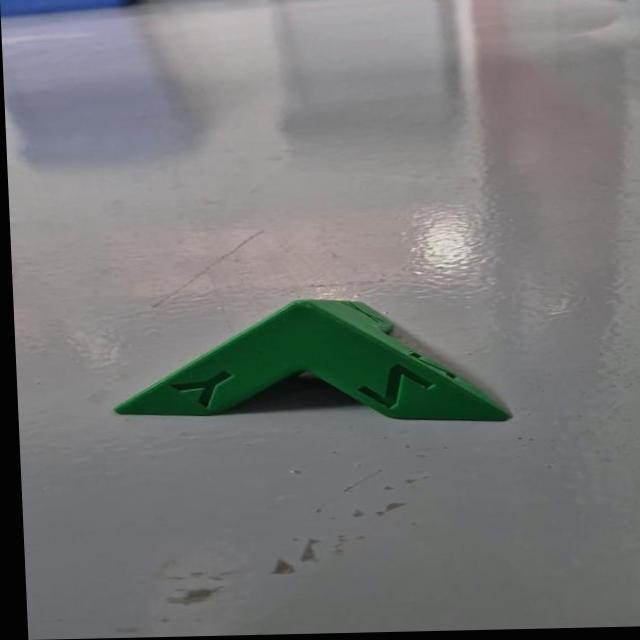eje: (88, 291, 517, 434)
